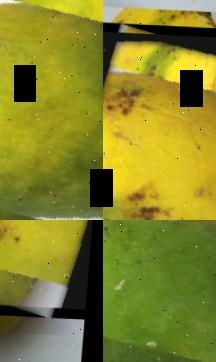PartiallyRipe: (0, 0, 103, 220), (0, 220, 103, 309)
Ripe: (103, 31, 216, 220)
Unripe: (103, 220, 216, 362)
